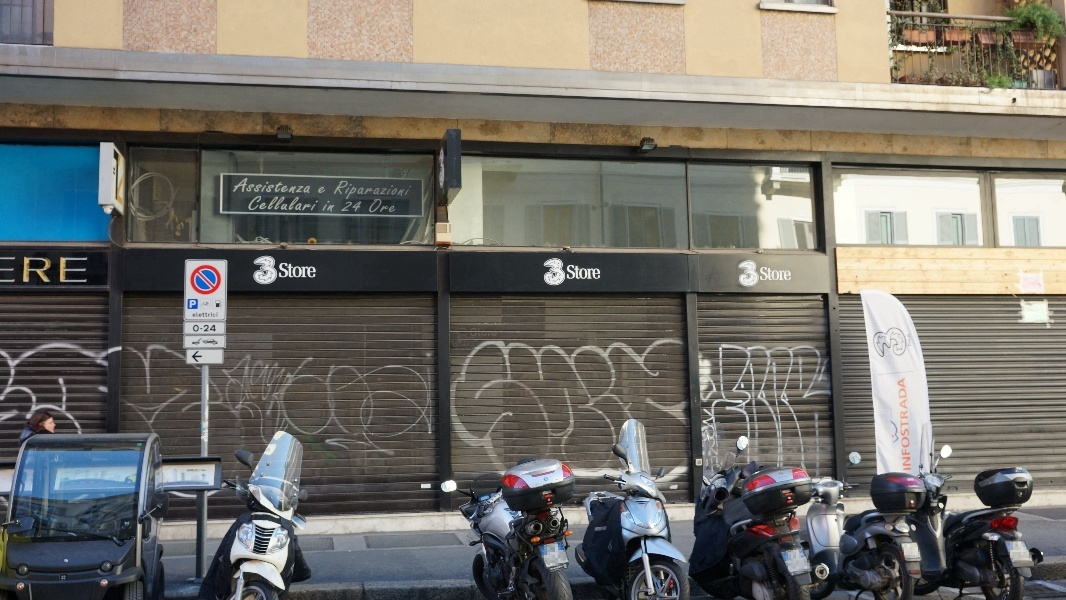text: (898, 378, 912, 471), (115, 150, 128, 206), (881, 326, 896, 358), (257, 256, 272, 285), (545, 258, 560, 286), (439, 145, 448, 191), (1, 257, 16, 283), (17, 257, 32, 283), (33, 257, 48, 283), (49, 257, 64, 283), (65, 257, 80, 283), (897, 326, 908, 358), (739, 260, 752, 287), (353, 181, 368, 200), (369, 181, 384, 200), (385, 181, 400, 200), (340, 181, 352, 200), (289, 263, 304, 278), (241, 178, 256, 193), (257, 178, 272, 193), (273, 178, 288, 193), (289, 178, 304, 193), (257, 196, 272, 211), (273, 196, 288, 211), (289, 196, 304, 211), (305, 196, 320, 211), (873, 326, 880, 358), (453, 328, 464, 348), (577, 265, 592, 279), (769, 267, 784, 281), (401, 181, 412, 200), (753, 260, 760, 287), (385, 198, 397, 213), (305, 263, 316, 278), (81, 257, 87, 283), (273, 256, 278, 285), (481, 328, 497, 337), (561, 258, 566, 286), (375, 198, 384, 213), (567, 265, 576, 279), (280, 263, 288, 278), (593, 265, 601, 279), (353, 202, 364, 212), (327, 200, 336, 212), (193, 325, 208, 332), (761, 267, 768, 281), (785, 267, 792, 281), (305, 178, 311, 193), (471, 328, 480, 337), (465, 328, 469, 348), (907, 334, 912, 348), (193, 313, 208, 317), (254, 256, 256, 285), (209, 325, 217, 332), (347, 202, 352, 212), (209, 313, 218, 317), (321, 187, 326, 194), (204, 325, 208, 332), (193, 301, 196, 308), (255, 196, 256, 211), (190, 301, 192, 308), (201, 328, 208, 330), (319, 187, 320, 194)
